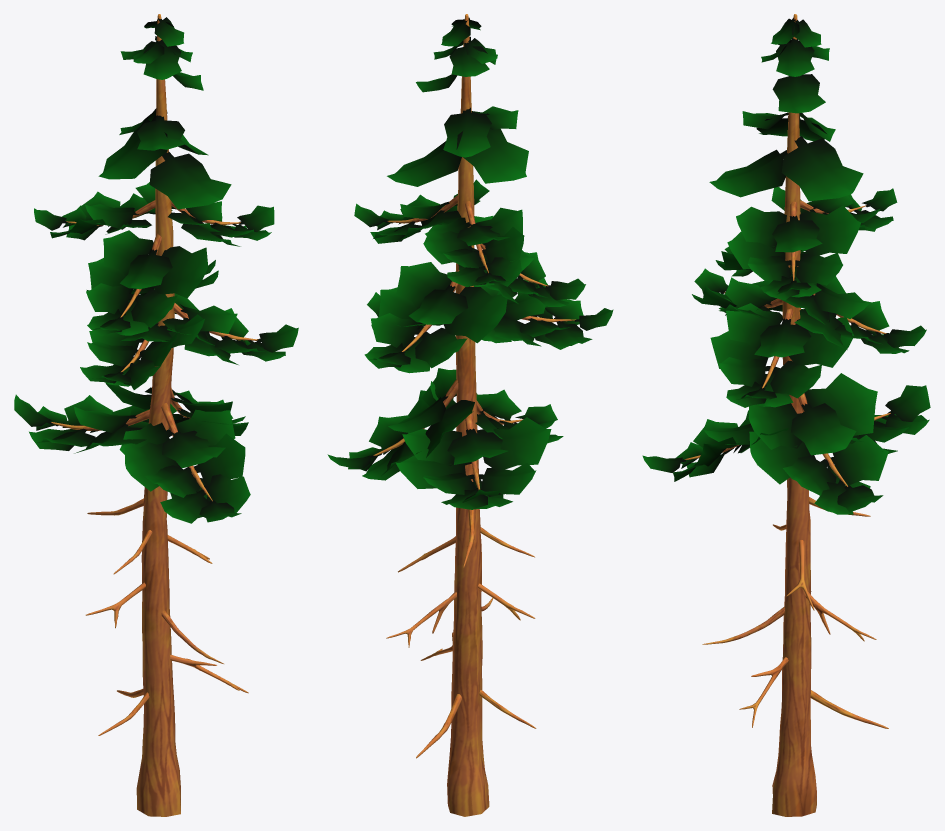
Rendered from tree_3.glb.
The picture shows the model from 3 angles, left to right: view 1: azimuth 30°, elevation 25°; view 2: azimuth 150°, elevation 25°; view 3: azimuth 270°, elevation 25°; orthographic projection.
Parts seen in each view (by area): view 1: stylized_pine_var3; view 2: stylized_pine_var3; view 3: stylized_pine_var3.
Boxes of the visible parts, bbox=[...] form: stylized_pine_var3: bbox=[14, 14, 298, 816]; stylized_pine_var3: bbox=[327, 14, 613, 816]; stylized_pine_var3: bbox=[642, 14, 930, 816].
Bounding box in the file's own units: 4.13 × 14.33 × 4.71.
2 materials, 1 textured.
